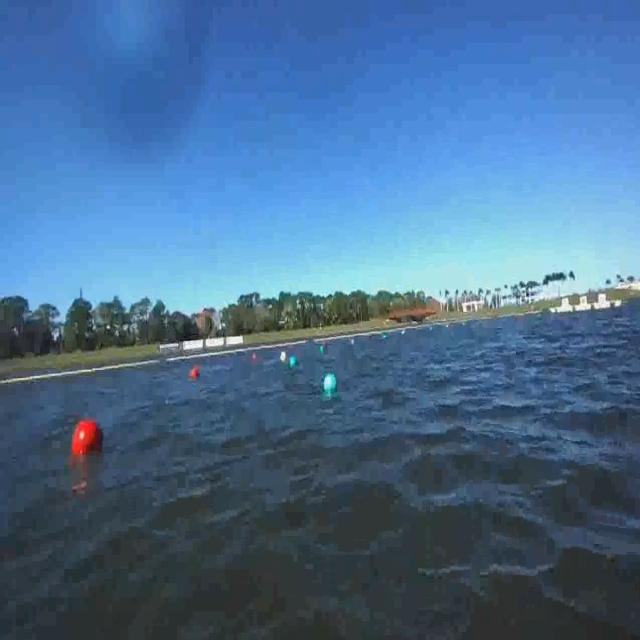green-buoy: (323, 371, 337, 394), (290, 355, 298, 368)
red-buoy: (69, 417, 108, 465)
red-column-buoy: (189, 364, 200, 379)
